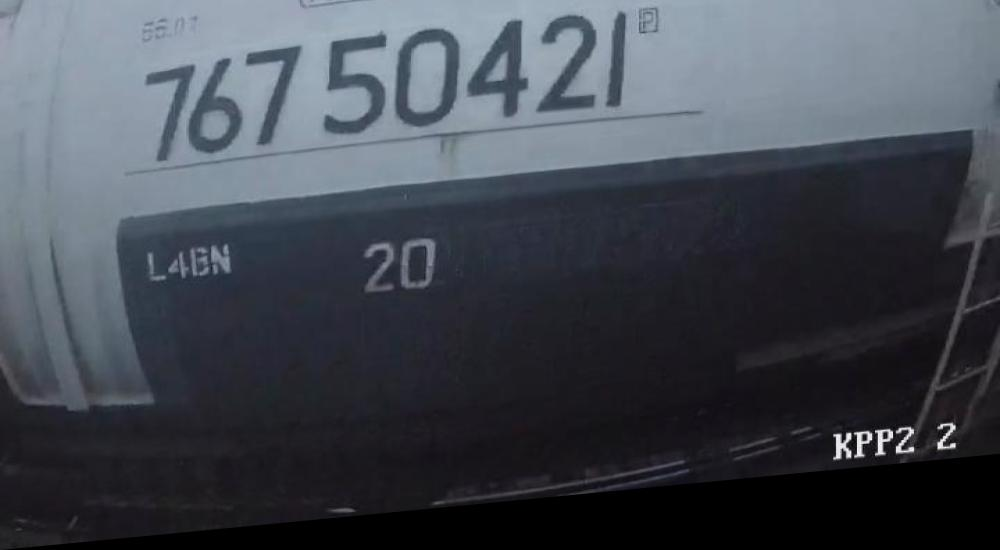Wagon-number: (137, 16, 630, 163)
